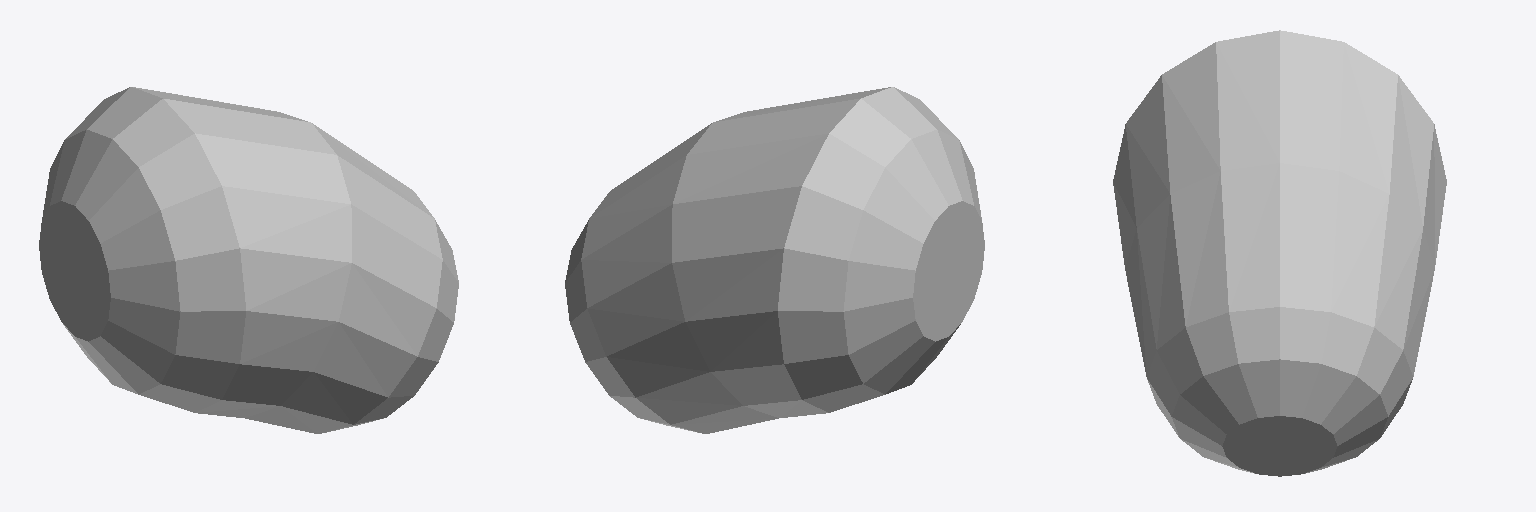
The model's file is uparmL.obj.
3 views of the same model, side by side, from view 1: azimuth 30°, elevation 25°; view 2: azimuth 150°, elevation 25°; view 3: azimuth 270°, elevation 25° (orthographic).
Parts seen in each view (by area): view 1: initialShadingGroup uparmL; view 2: initialShadingGroup uparmL; view 3: initialShadingGroup uparmL.
Boxes of the visible parts, x1=… form: initialShadingGroup uparmL: x1=39, y1=87, x2=458, y2=433; initialShadingGroup uparmL: x1=565, y1=87, x2=984, y2=433; initialShadingGroup uparmL: x1=1113, y1=30, x2=1446, y2=476.
Size of the model in its own units: 1.28 by 1.22 by 1.02.